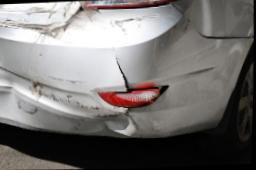Bumper: (0, 4, 254, 148)
